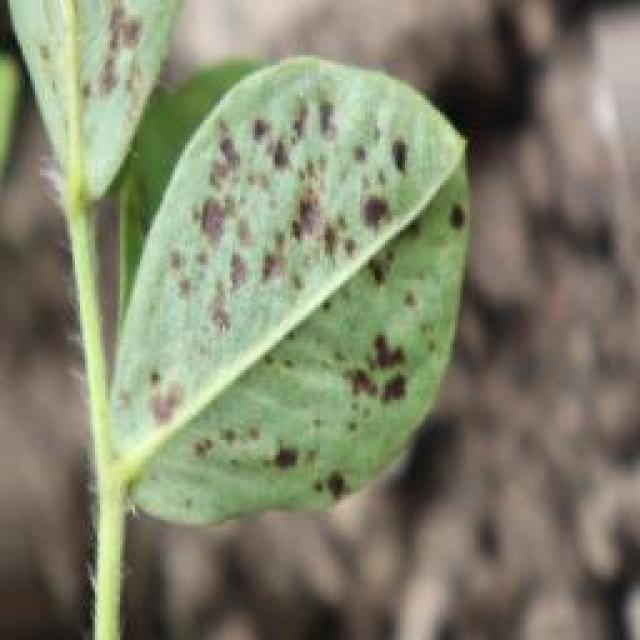Whitefly: (28, 4, 454, 520)
